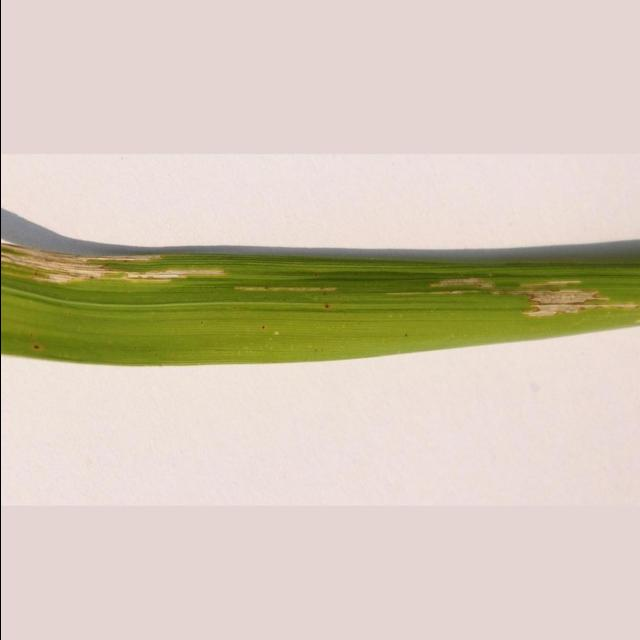Bacterial leaf blight: (0, 234, 229, 308), (510, 274, 634, 334), (414, 260, 499, 305), (235, 272, 346, 303)
